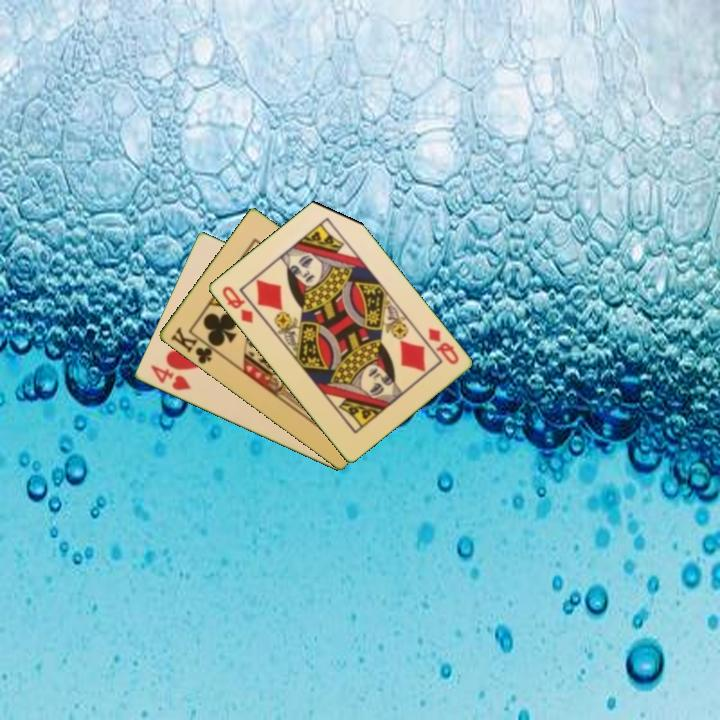4h: (146, 361, 194, 394)
Kc: (167, 323, 221, 367)
Qd: (218, 282, 256, 326), (424, 325, 461, 368)
